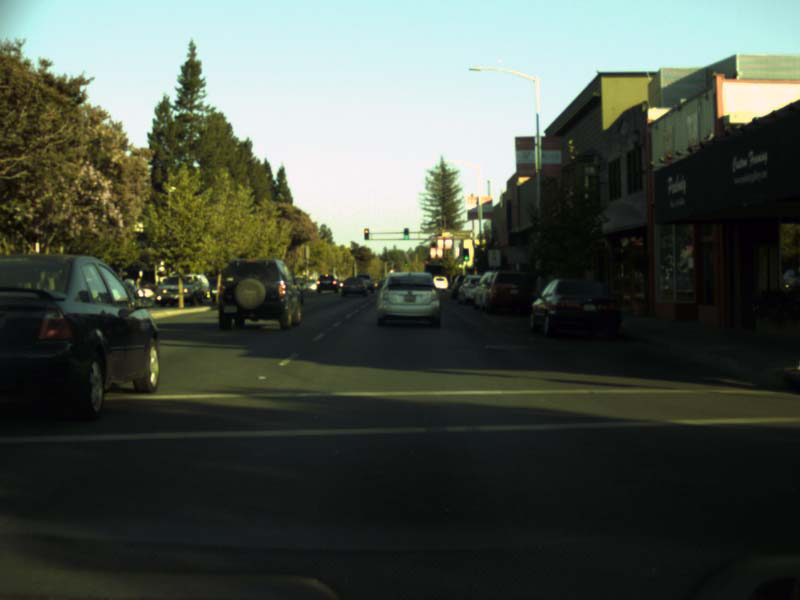Green: (462, 249, 468, 259), (403, 228, 408, 238), (404, 261, 407, 265)
Red: (363, 229, 368, 238)
